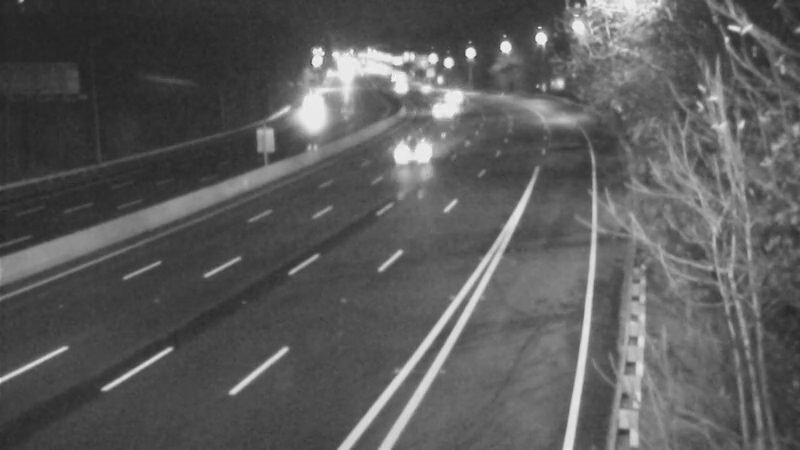vehicle: (426, 68, 476, 118), (413, 80, 463, 130), (384, 121, 434, 171), (288, 82, 338, 132)
